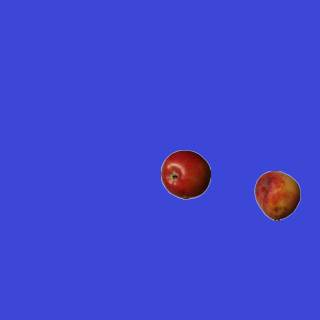Apple Braeburn: (160, 149, 210, 199)
Peach: (252, 170, 302, 220)
